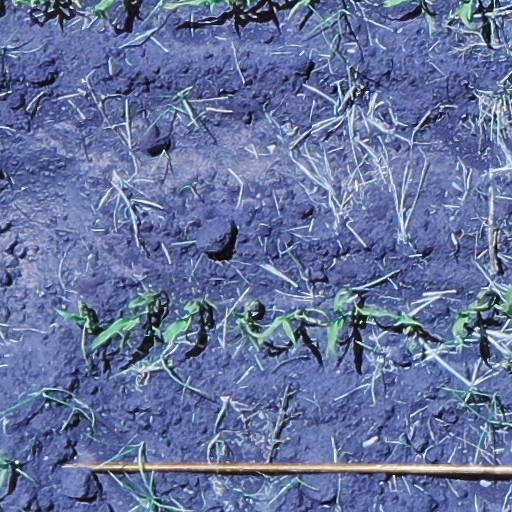planta: (86, 291, 159, 350), (453, 298, 493, 341), (328, 288, 353, 355), (260, 312, 309, 345), (163, 300, 200, 343), (354, 305, 422, 327), (56, 300, 99, 334), (231, 300, 262, 339)
